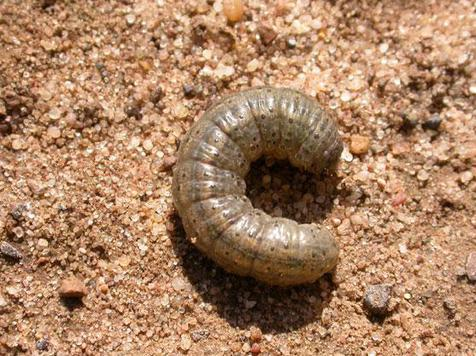caterpillars: (146, 64, 387, 305)
